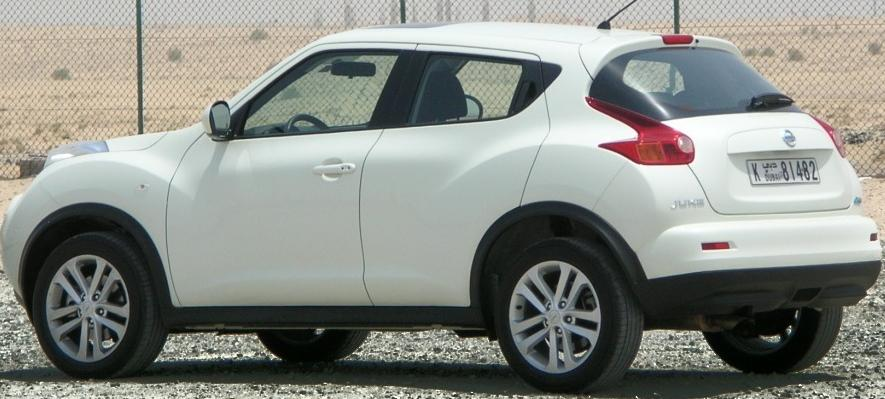back_view: (542, 74, 885, 359)
backlight: (574, 74, 696, 193)
side_glass: (202, 50, 561, 142)
